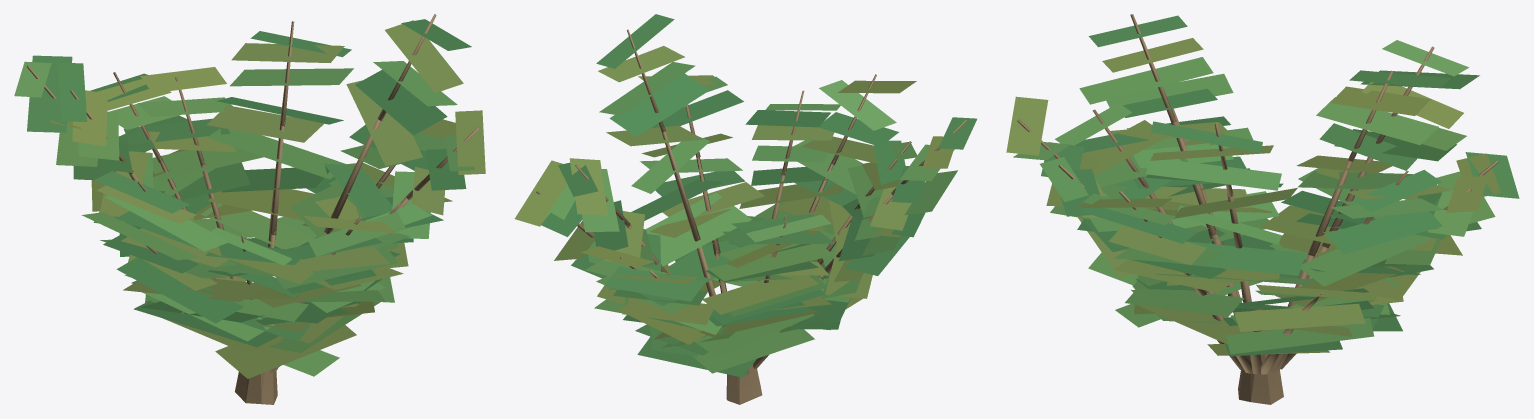
Rendered from bush_far.glb.
3 views of the same model, side by side, from view 1: azimuth 30°, elevation 25°; view 2: azimuth 150°, elevation 25°; view 3: azimuth 270°, elevation 25° (orthographic). The views are drawn at different scales.
Parts seen in each view (by area): view 1: bush; view 2: bush; view 3: bush.
Part boxes in pixels (<box>): bush: <box>14,14,485,404</box>; bush: <box>514,14,976,404</box>; bush: <box>1006,14,1519,404</box>.
Size of the model in its own units: 1.22 by 1.01 by 1.35.
